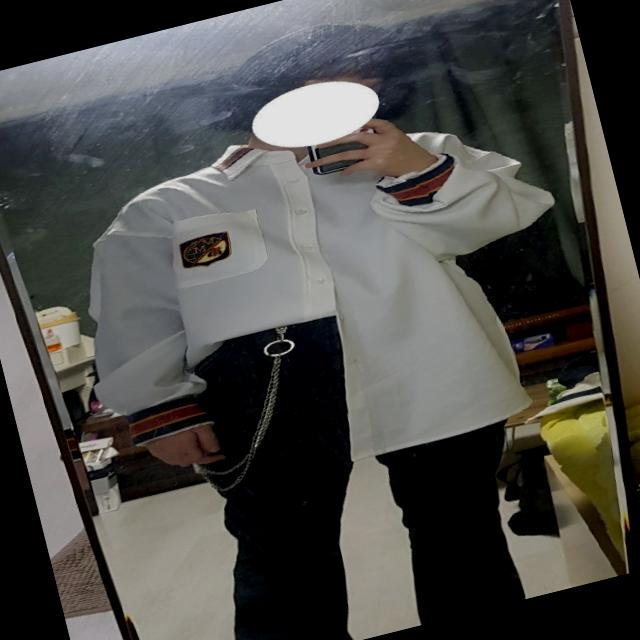denimpants: (160, 279, 545, 640)
shirt: (47, 81, 595, 514)
